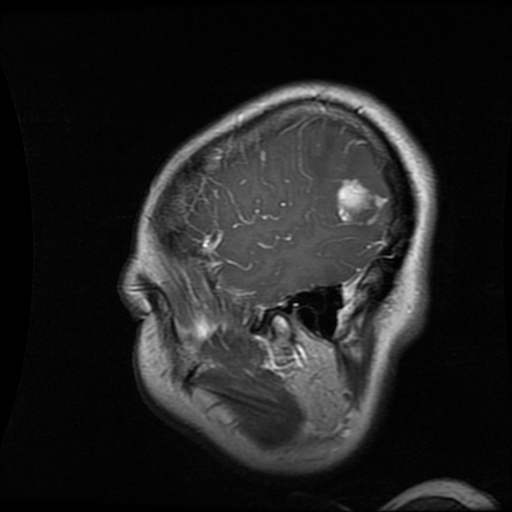glioma: (339, 178, 391, 223)
